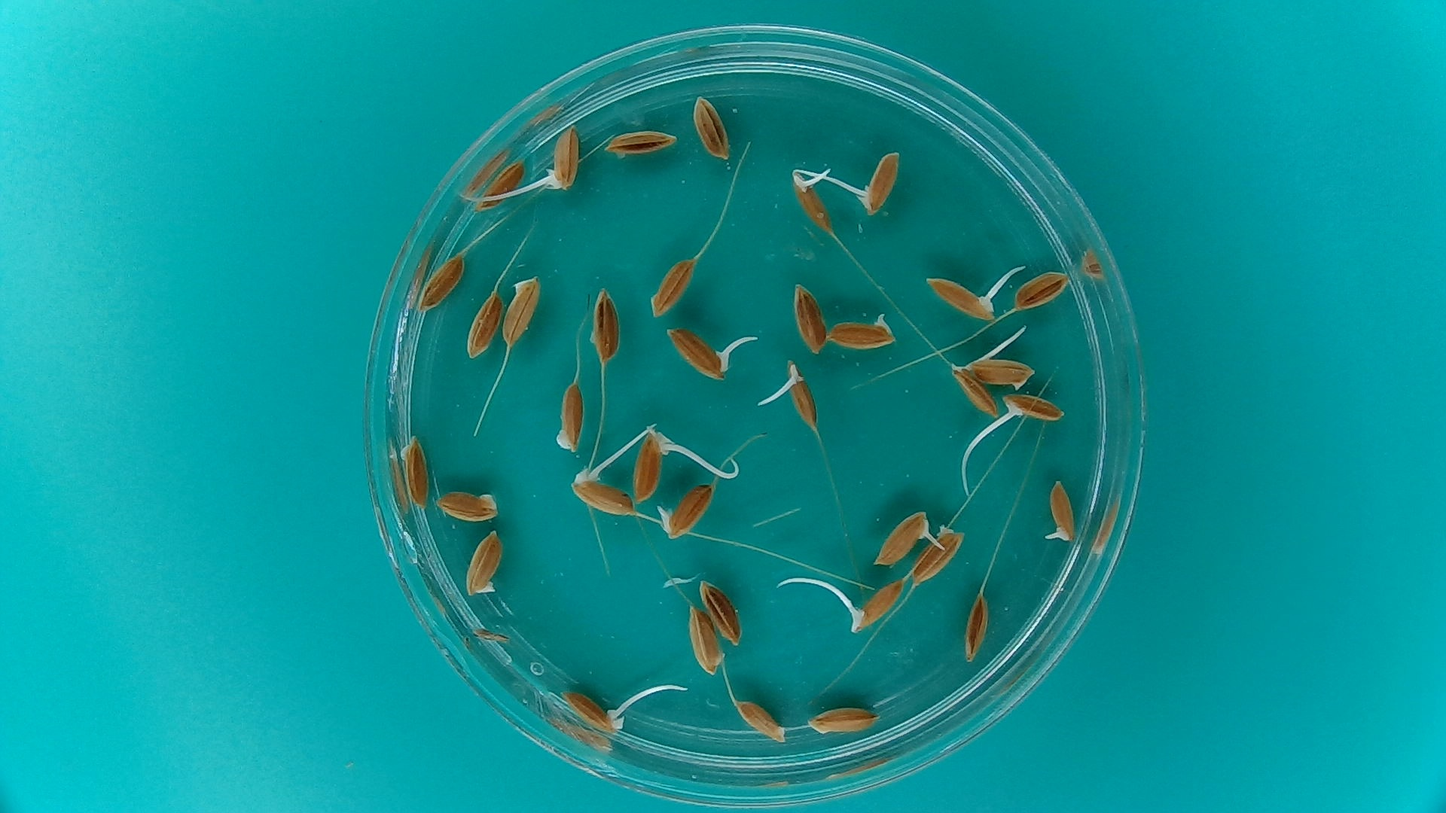no: (908, 523, 967, 586), (499, 270, 543, 349), (460, 526, 506, 601), (584, 282, 624, 366), (462, 285, 505, 360), (697, 576, 743, 646), (417, 248, 468, 311), (689, 90, 733, 163), (789, 280, 829, 356), (473, 155, 526, 212), (647, 255, 693, 319), (686, 600, 725, 674), (731, 696, 789, 744), (551, 376, 587, 453), (967, 352, 1039, 390), (430, 485, 502, 522), (1012, 268, 1072, 312), (399, 433, 432, 511), (804, 703, 881, 736), (602, 125, 680, 157), (960, 592, 991, 664)
yes: (664, 323, 737, 382), (923, 273, 1003, 323), (559, 683, 628, 738), (656, 480, 717, 542), (843, 576, 906, 636), (630, 426, 678, 504), (569, 464, 638, 517), (856, 139, 902, 216), (872, 510, 935, 566), (827, 310, 899, 351), (781, 359, 821, 432), (789, 173, 834, 237), (541, 123, 581, 190), (948, 363, 996, 417), (997, 390, 1068, 425), (1045, 478, 1078, 546)
